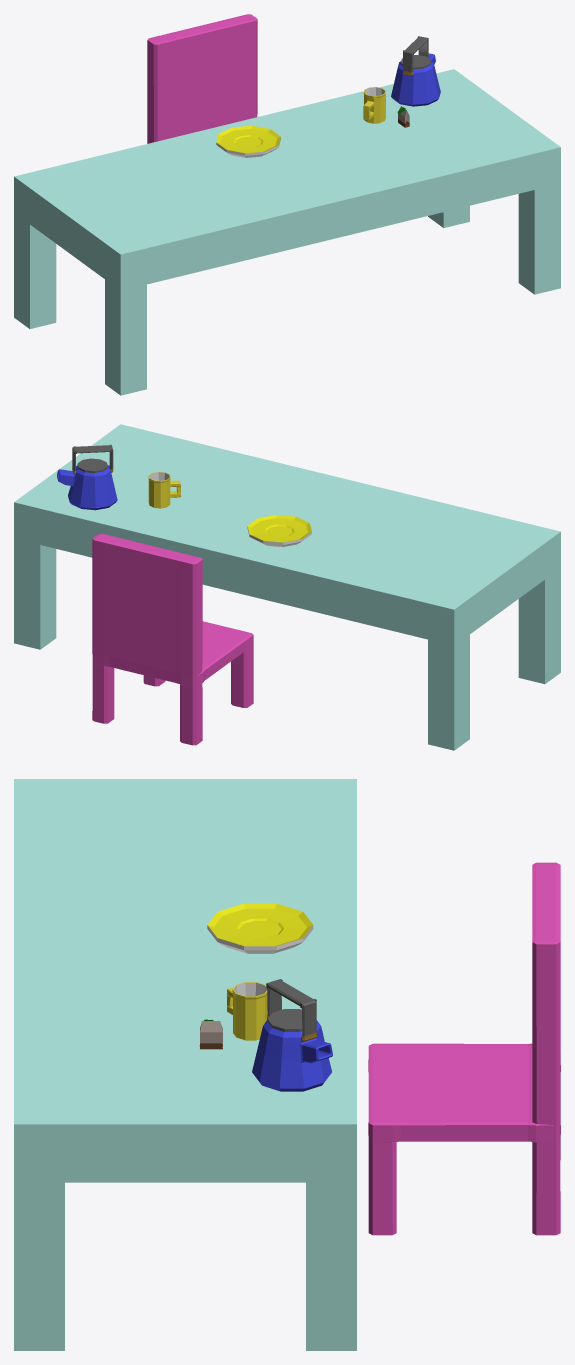
The model's file is TeaParty_Assets_v1.fbx.
3 renders of one model, top to bottom at view 1: azimuth 30°, elevation 25°; view 2: azimuth 150°, elevation 25°; view 3: azimuth 270°, elevation 25°, orthographic. The views are drawn at different scales.
Parts seen in each view (by area): view 1: Teaparty_Table_1, Teaparty_Chair_1, Teaparty_Kettle_1, TeaParty_Teaplate_1, Teaparty_Cup_1; view 2: Teaparty_Table_1, Teaparty_Chair_1, Teaparty_Kettle_1, TeaParty_Teaplate_1, Teaparty_Cup_1; view 3: Teaparty_Table_1, Teaparty_Chair_1, Teaparty_Kettle_1, TeaParty_Teaplate_1, Teaparty_Cup_1.
Boxes of the visible parts, box(x1,y1,x2,y2) form: Teaparty_Table_1: box(14, 69, 560, 395); Teaparty_Chair_1: box(147, 14, 257, 143); Teaparty_Kettle_1: box(391, 36, 440, 106); TeaParty_Teaplate_1: box(216, 125, 280, 157); Teaparty_Cup_1: box(363, 87, 385, 123); Teaparty_Table_1: box(14, 424, 560, 750); Teaparty_Chair_1: box(92, 533, 253, 745); Teaparty_Kettle_1: box(57, 444, 117, 510); TeaParty_Teaplate_1: box(247, 515, 311, 547); Teaparty_Cup_1: box(148, 471, 180, 508); Teaparty_Table_1: box(14, 779, 356, 1350); Teaparty_Chair_1: box(368, 862, 560, 1235); Teaparty_Kettle_1: box(252, 979, 332, 1091); TeaParty_Teaplate_1: box(207, 903, 313, 953); Teaparty_Cup_1: box(227, 982, 267, 1040).
Size of the model in its own units: 283 by 120 by 189.
